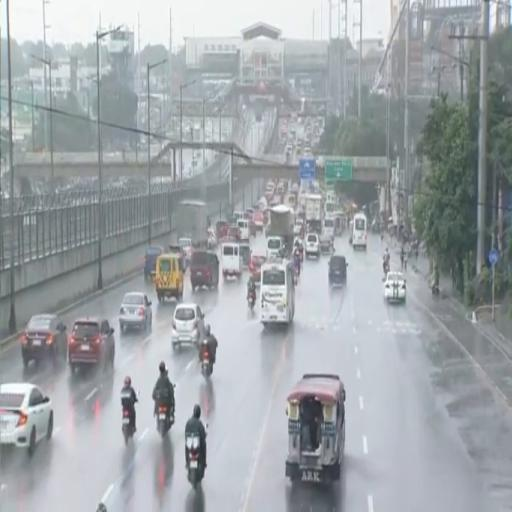bus: (261, 261, 294, 327), (352, 213, 368, 249)
car: (0, 383, 53, 456), (68, 317, 115, 373), (21, 314, 67, 367), (172, 303, 204, 348), (119, 292, 152, 332), (190, 250, 219, 291), (384, 271, 406, 301), (144, 247, 163, 280), (329, 255, 347, 284), (249, 254, 266, 284), (305, 233, 320, 258), (178, 237, 192, 261), (319, 234, 333, 253), (216, 220, 229, 239), (207, 228, 217, 250), (227, 226, 241, 241), (254, 212, 263, 232), (294, 218, 303, 236)
jeepney: (286, 374, 345, 484)
motorcycle: (186, 435, 204, 489), (157, 405, 174, 438), (122, 407, 134, 444), (122, 408, 134, 444), (201, 345, 213, 377), (248, 290, 255, 309), (294, 264, 300, 284), (432, 284, 439, 299), (384, 261, 389, 276)
truck: (177, 200, 208, 247), (266, 205, 294, 255), (304, 195, 323, 234)
